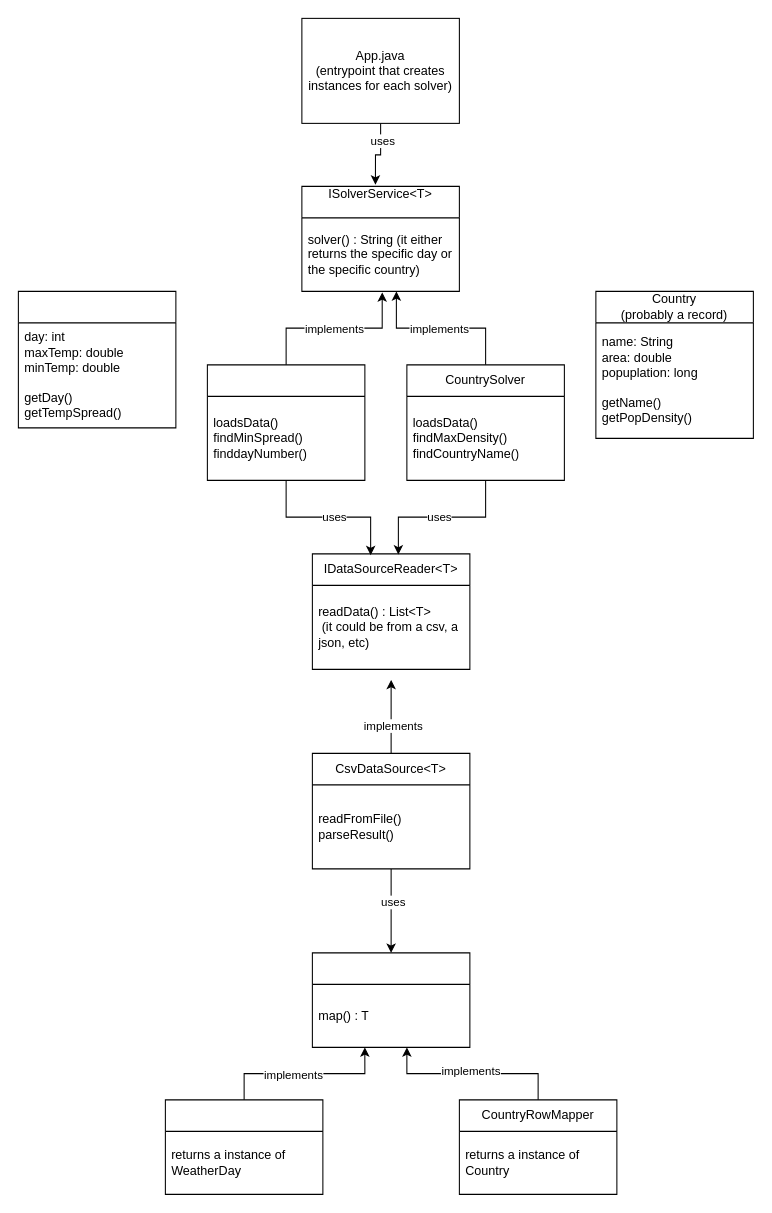
Some shapes in this 772 by 1213 pixel diagram are drawn without their labels. The box of each missing label's shape, as (x1, y1, x2, y2) in pixels:
IRowMapper<T>: (311, 952, 470, 1047)
WeatherDay (probably a record): (17, 290, 176, 428)
WeatherRowMapper: (164, 1099, 323, 1194)
WeatherSolver: (206, 364, 365, 480)
